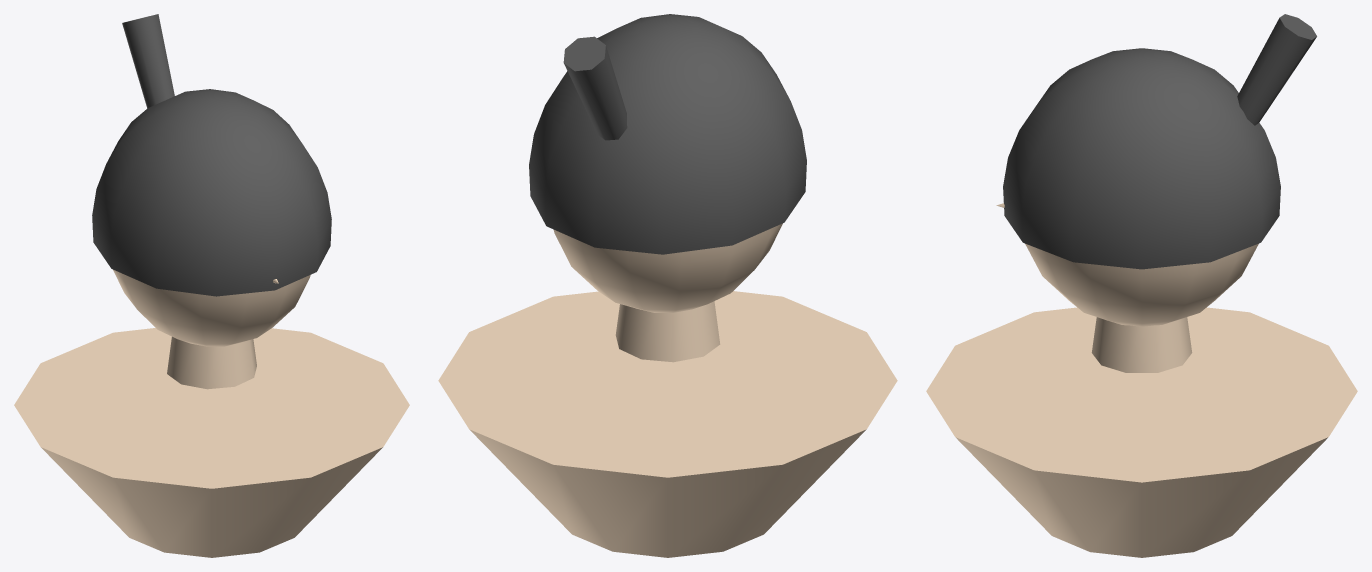
Rendered from raw_003.glb.
3 views of the same model, side by side, from view 1: azimuth 30°, elevation 25°; view 2: azimuth 150°, elevation 25°; view 3: azimuth 270°, elevation 25° (orthographic). The views are drawn at different scales.
Bounding box in the file's own units: 1.8 × 2.29 × 1.8.
